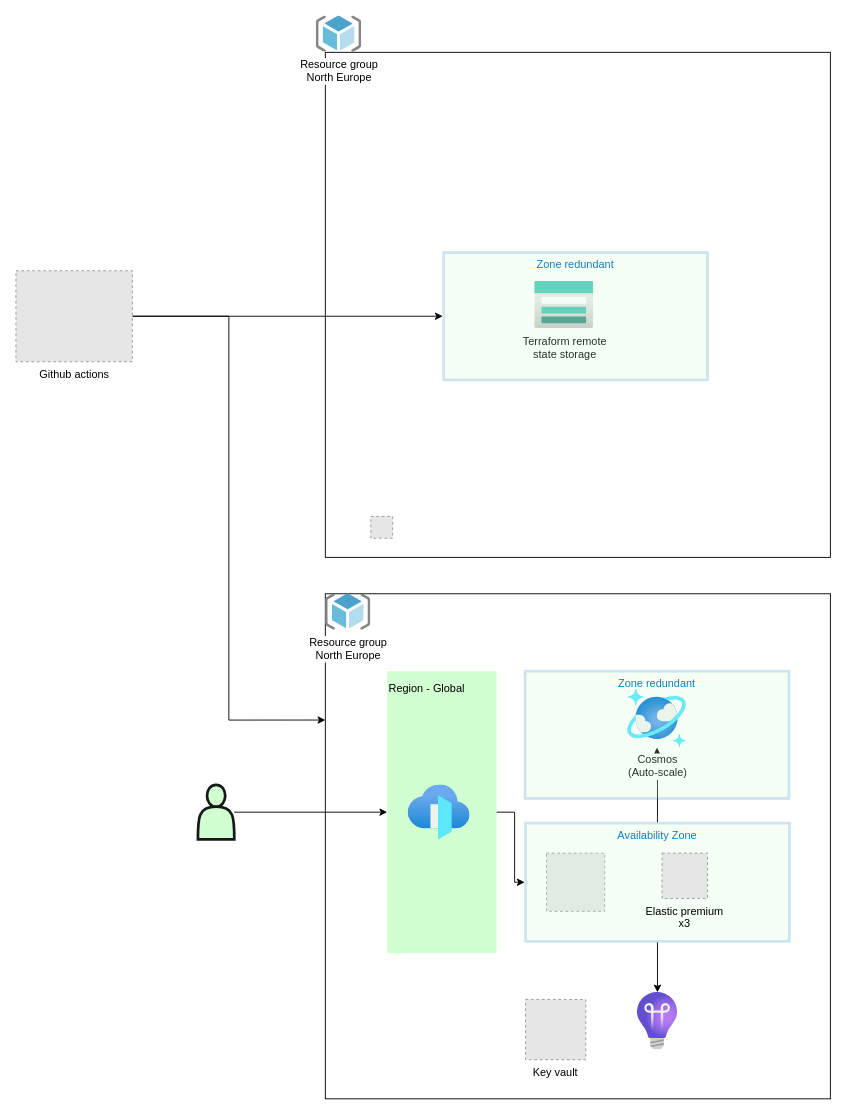
Image size: 846x1115. Some labels were removed from this diagram. Grey dashed boxes stand in for pictures. The shapes that lost their labels are listed below. From the top down, each one's centre as x and y in pixels, then its label:
At (x=439, y=811): "Front Door".
At (x=657, y=1020): "App insights".
